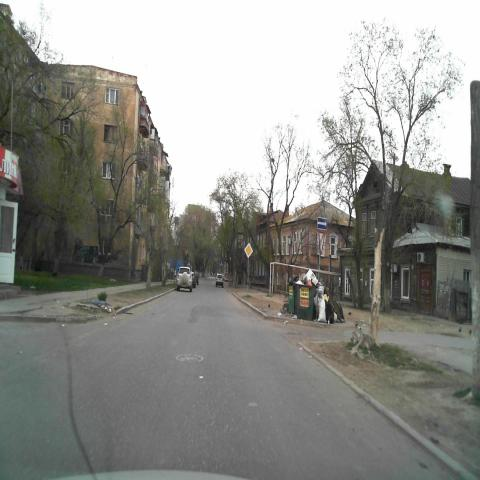5_7_1: (317, 217, 328, 231)
